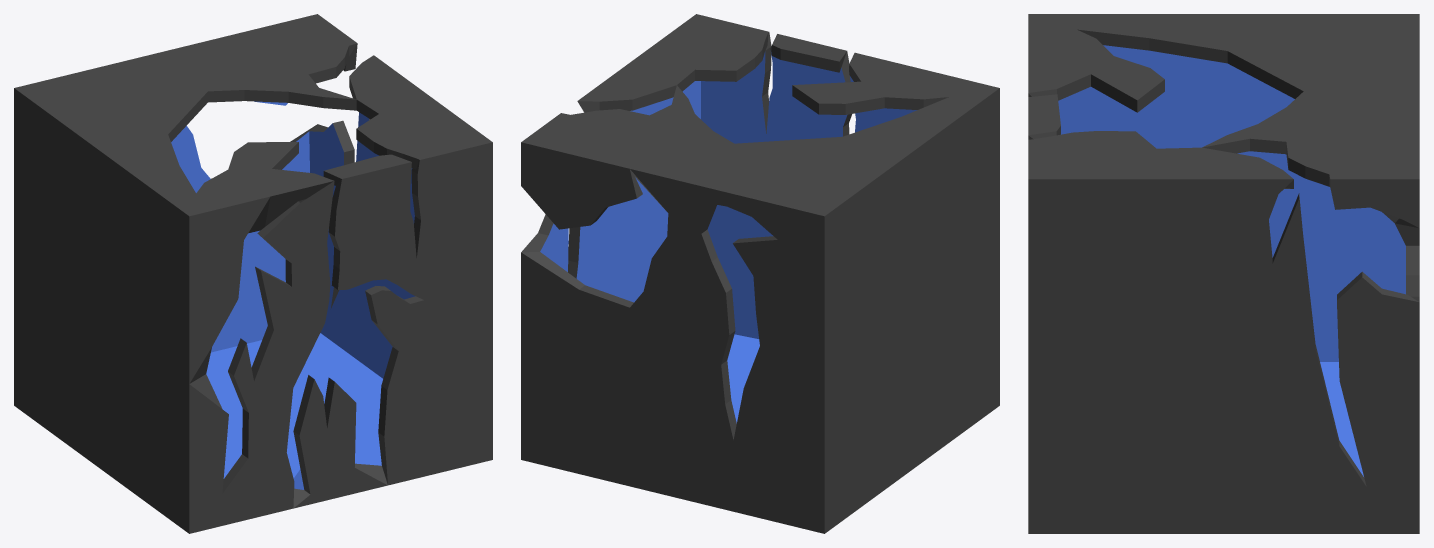
File: BlueCrack1.fbx
3 views of the same model, side by side, from view 1: azimuth 30°, elevation 25°; view 2: azimuth 150°, elevation 25°; view 3: azimuth 270°, elevation 25° (orthographic). The views are drawn at different scales.
Parts seen in each view (by area): view 1: Blue_Crack1; view 2: Blue_Crack1; view 3: Blue_Crack1.
Boxes of the visible parts, box(x1,y1,x2,y2) form: Blue_Crack1: box(14, 14, 492, 533); Blue_Crack1: box(521, 14, 999, 533); Blue_Crack1: box(1028, 14, 1419, 533).
Bounding box in the file's own units: 200 × 200 × 200.
